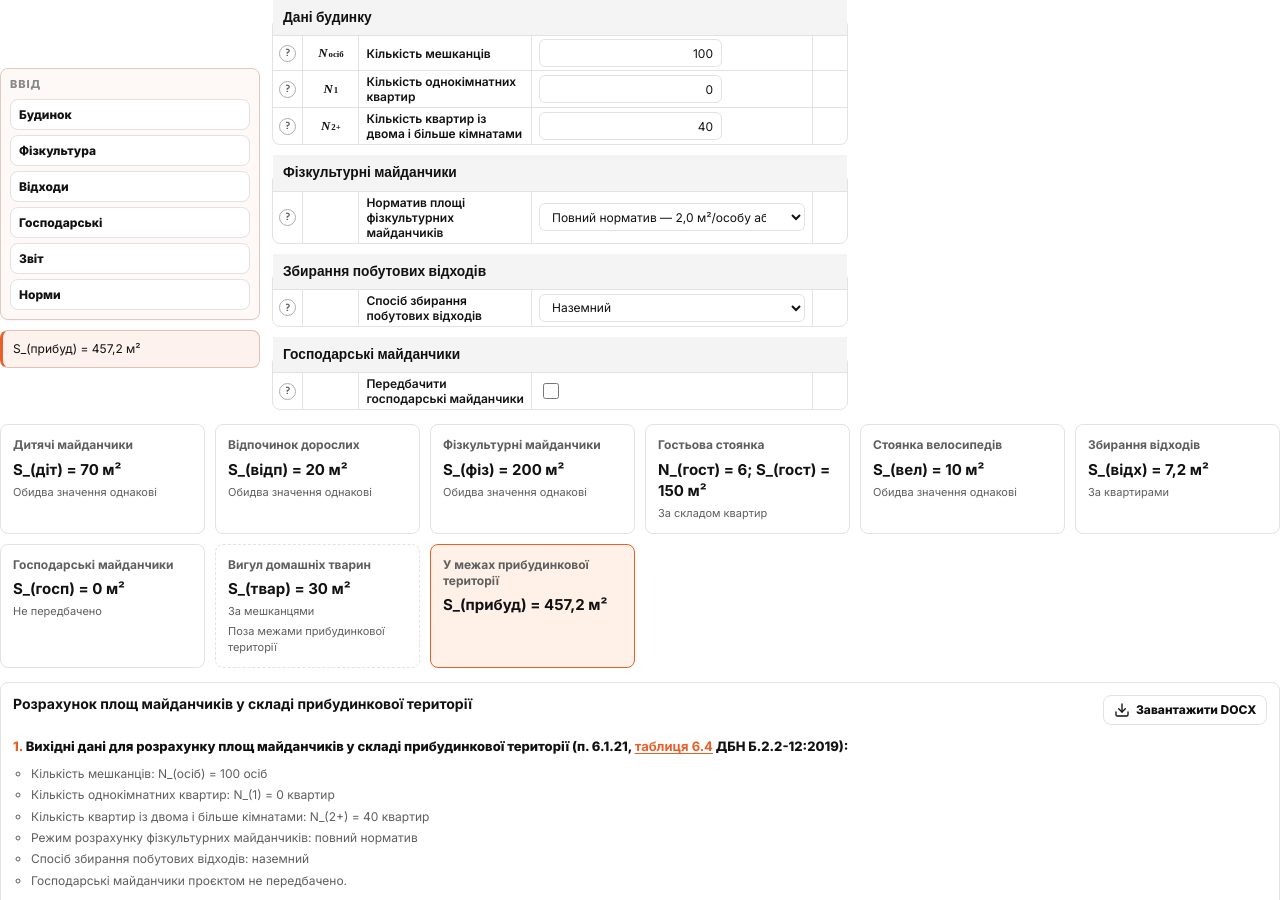
Scenario: ResidentialYardAreasCalculator › falls back to the full norm when actual greenery is insufficient
The width and height of the screenshot is (1280, 900).
Select "Зменшений норматив — 0,2 м²/особу або 0,5 м²/квартиру" in the dropdown labelled "Норматив площі фізкультурних майданчиків" at (672, 217), box [539,203,805,231]
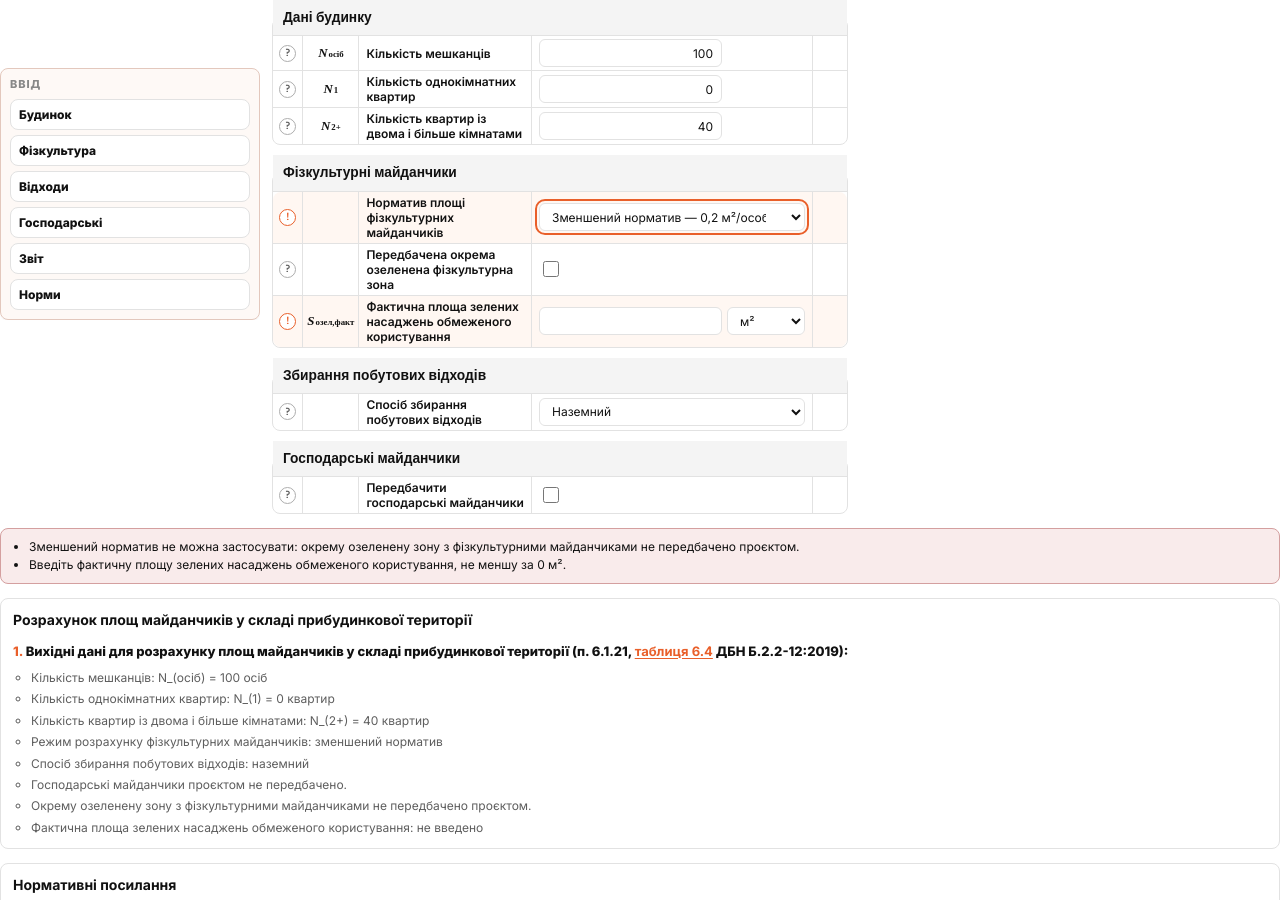
Click the checkbox named "Передбачена окрема озеленена фізкультурна зона".
click(551, 269)  # box [543,261,559,277]
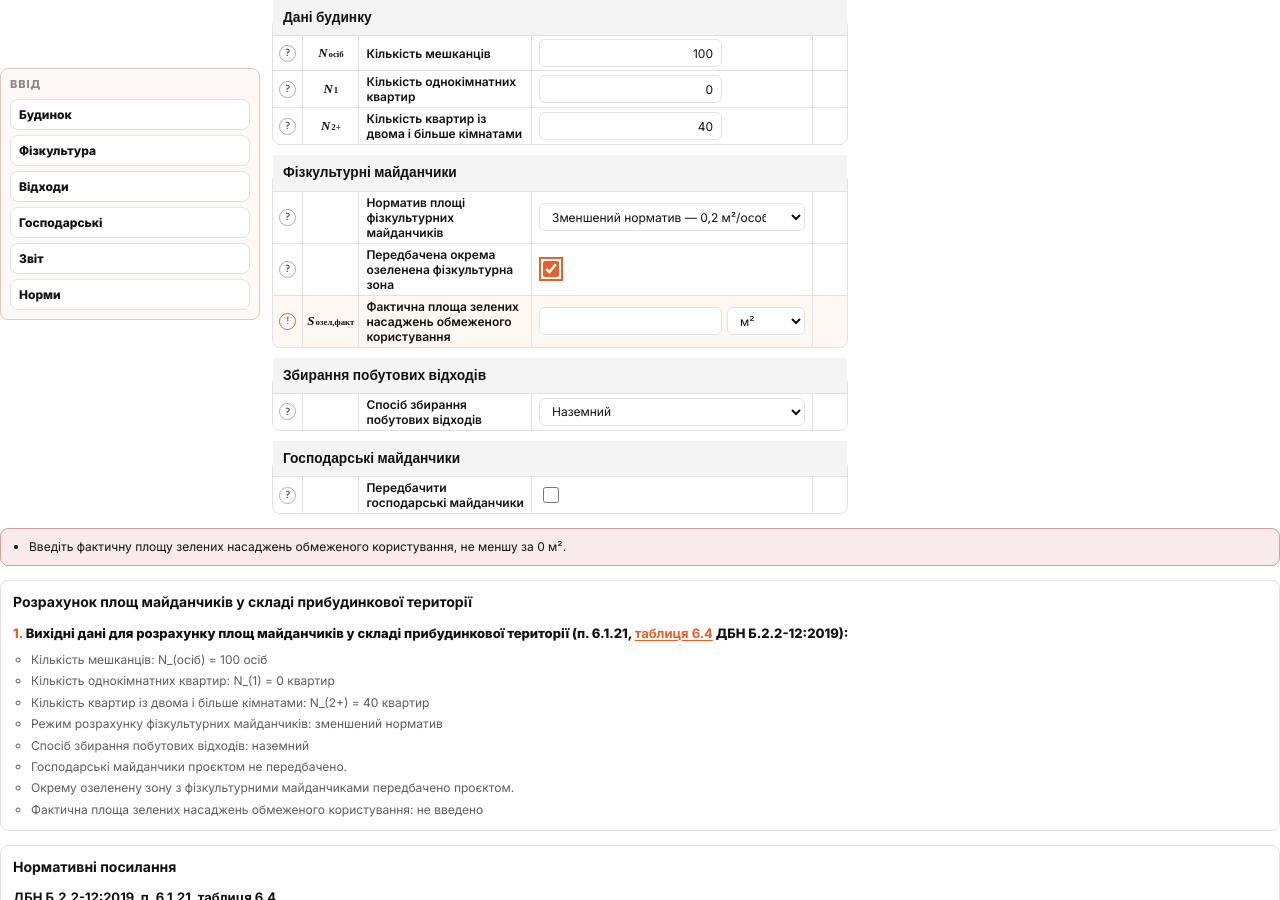
Type "599" into the field labelled "Фактична площа зелених насаджень обмеженого користування".
click(630, 321); type("599")  # box [539,307,722,335]
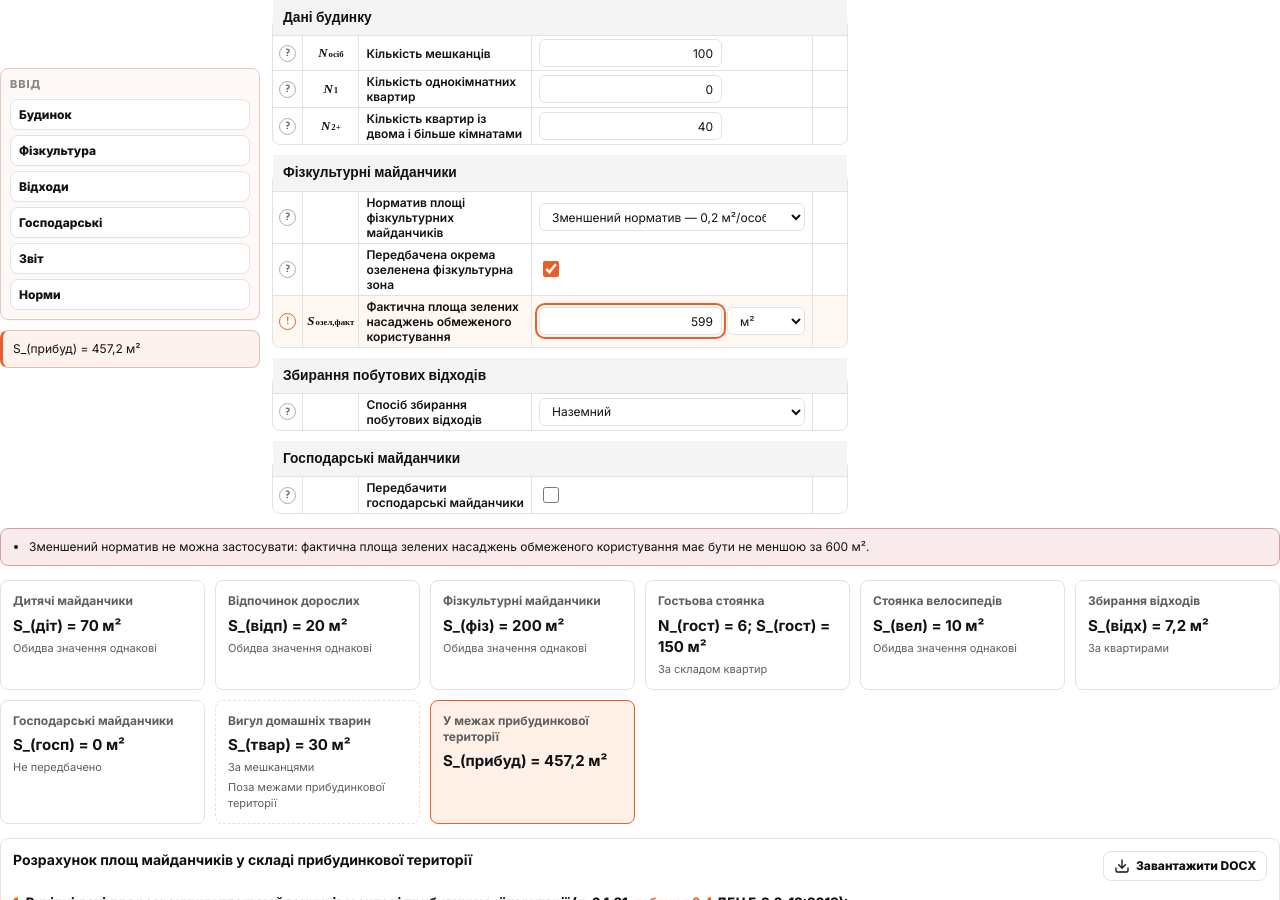
Expected: the list item "Зменшений норматив не можна застосувати: фактична площа зелених насаджень обмеженого користування має бути не меншою за " is shown, [29,539,870,554]
Expected: the text "S_(прибуд) = 457,2 м²" below "Норми" is shown, [13,341,141,356]
Expected: the button "Завантажити DOCX" is shown, [1103,851,1267,881]
